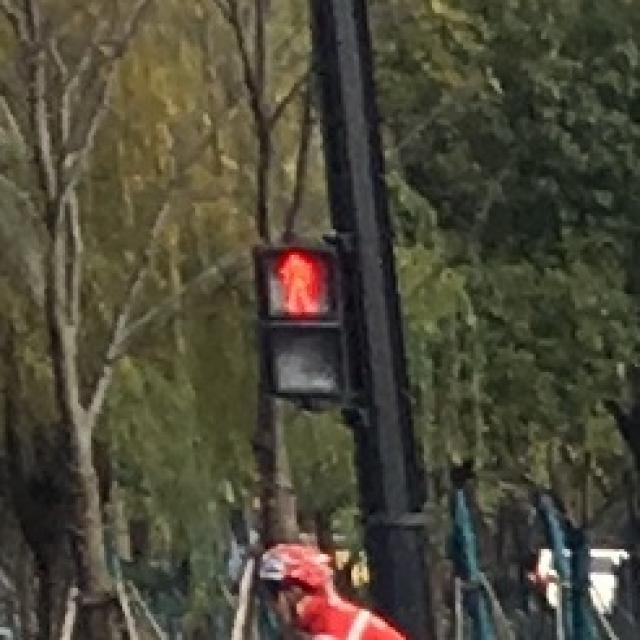red-crossing: (260, 242, 336, 318)
